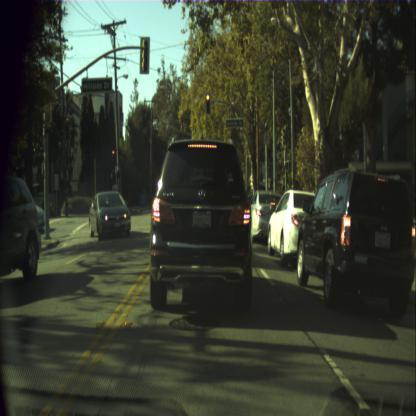Red: (206, 92, 210, 113), (110, 149, 115, 164)
